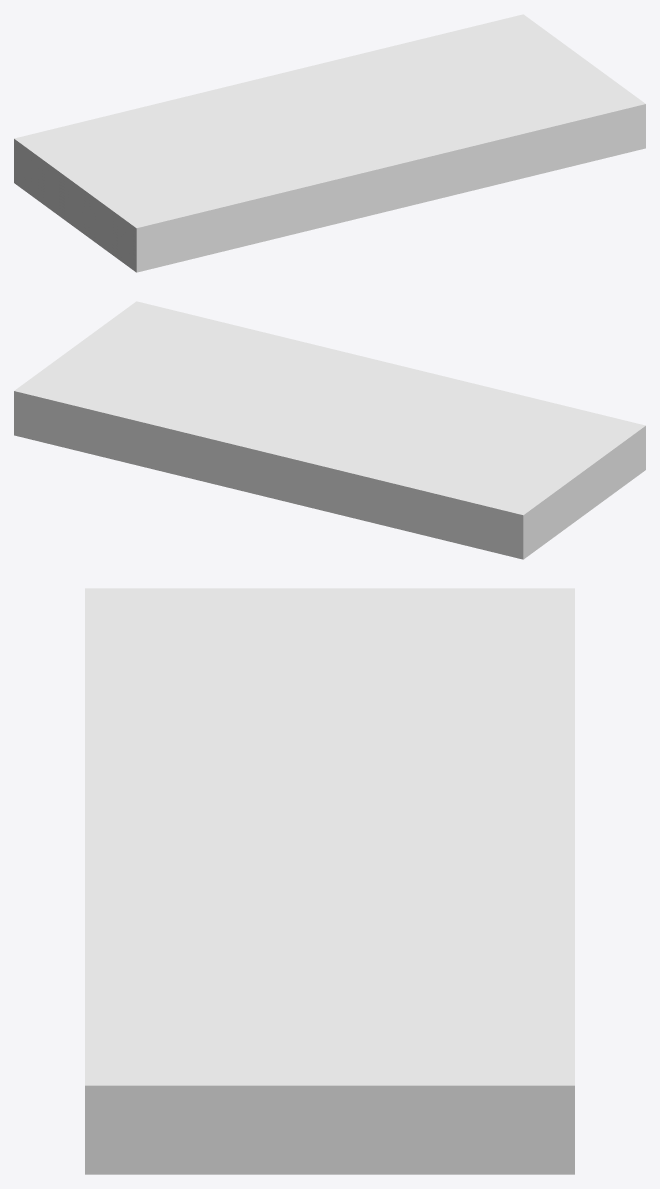
The model's file is vetro3x4.gltf.
3 views of the same model, one above another, from view 1: azimuth 30°, elevation 25°; view 2: azimuth 150°, elevation 25°; view 3: azimuth 270°, elevation 25° (orthographic). The views are drawn at different scales.
Visible parts, largest first — view 1: Layer.1, Layer.2; view 2: Layer.1, Layer.2; view 3: Layer.1, Layer.2.
Boxes of the visible parts, bbox=[...] form: Layer.1: bbox=[14, 14, 645, 272]; Layer.2: bbox=[81, 42, 578, 199]; Layer.1: bbox=[14, 301, 645, 559]; Layer.2: bbox=[81, 329, 578, 486]; Layer.1: bbox=[85, 588, 574, 1174]; Layer.2: bbox=[183, 630, 476, 1044].
Bounding box in the file's own units: 12 × 1 × 5.
1 material, 1 textured.
